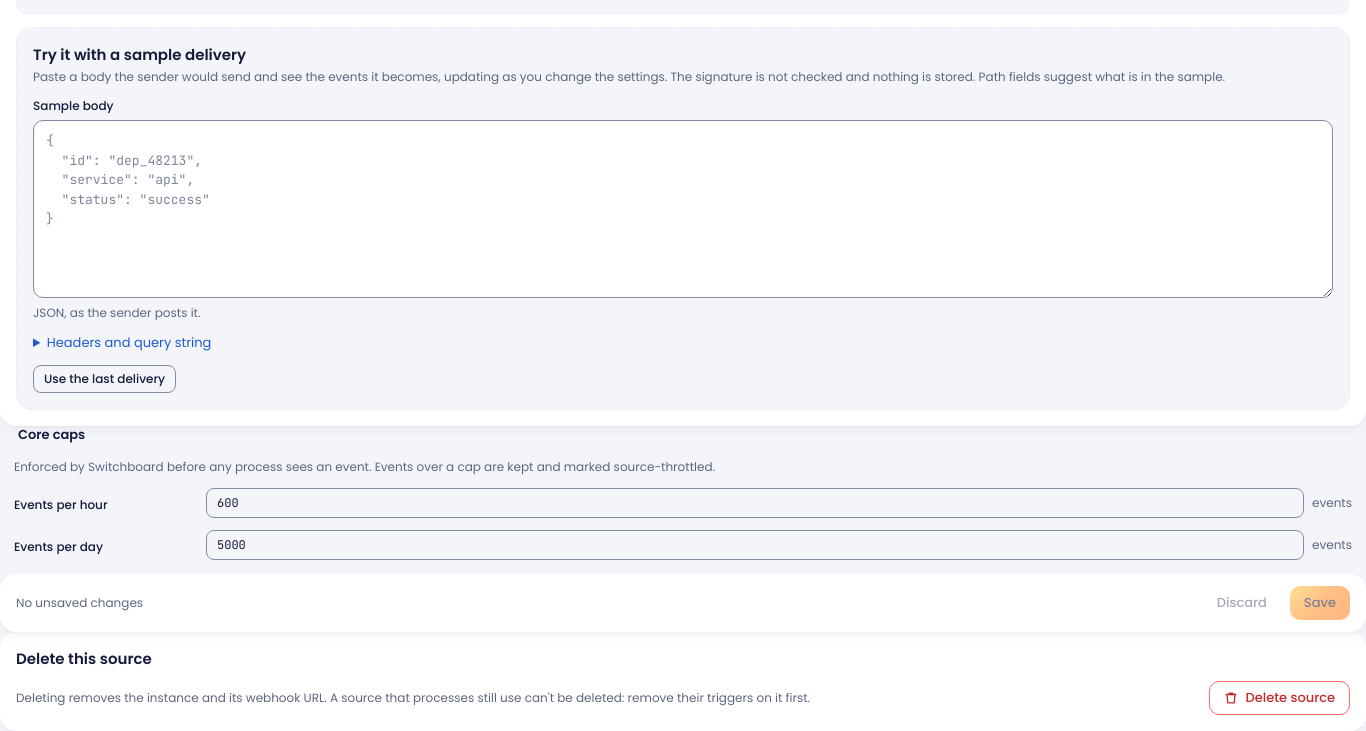
Scenario: Try it with a sample delivery › in Source › Settings, takes the last delivery as the sample
(page scrolled)
Click the button "Use the last delivery".
click(105, 378)  # box [33,364,176,392]
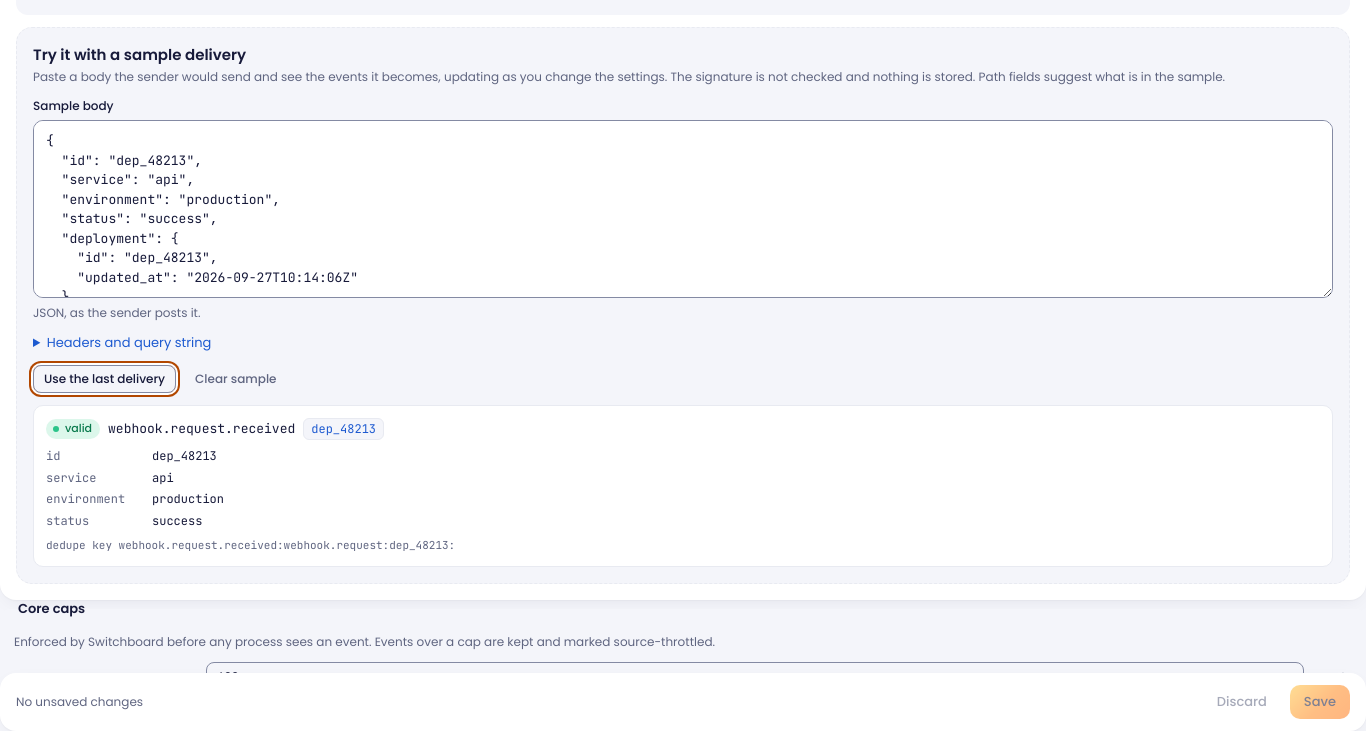
expect the list named "Resulting events" is shown: met, box [33,404,1333,567]
